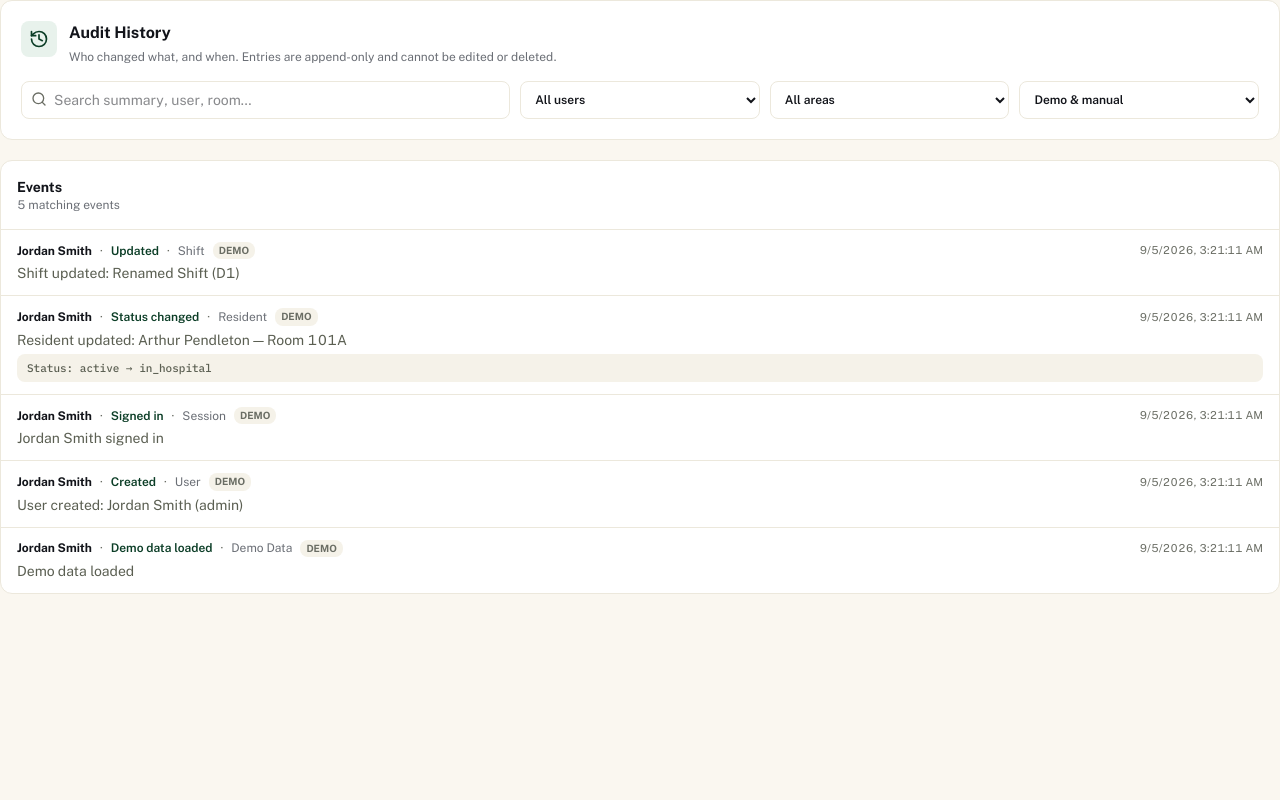
AuditHistoryTab › filters by entity type
The width and height of the screenshot is (1280, 800).
Select "Shift" in the 2nd dropdown showing "All areas" at (890, 100), box [770,81,1009,119]
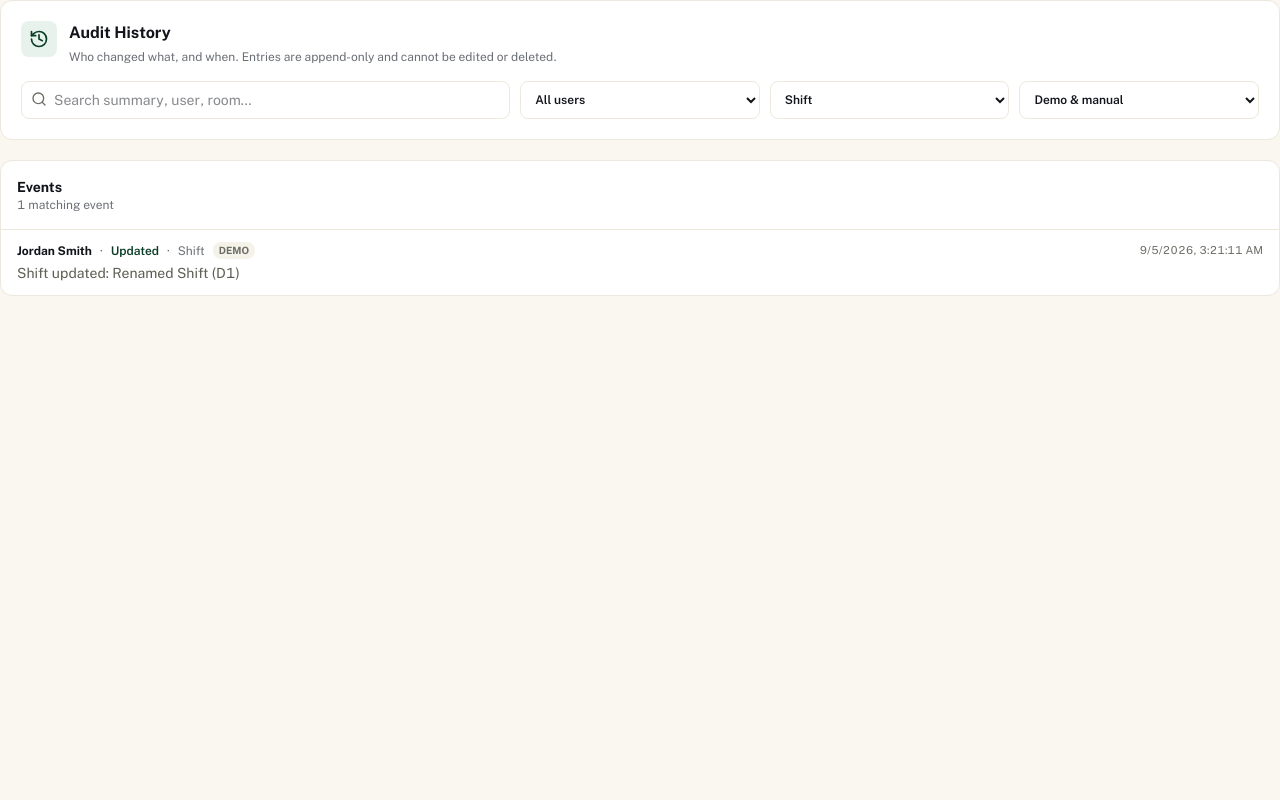
Check: the element with test id "audit-row" is shown, box [1,230,1279,295]
Check: the text with test id "audit-row" no longer shows "Resident updated"
